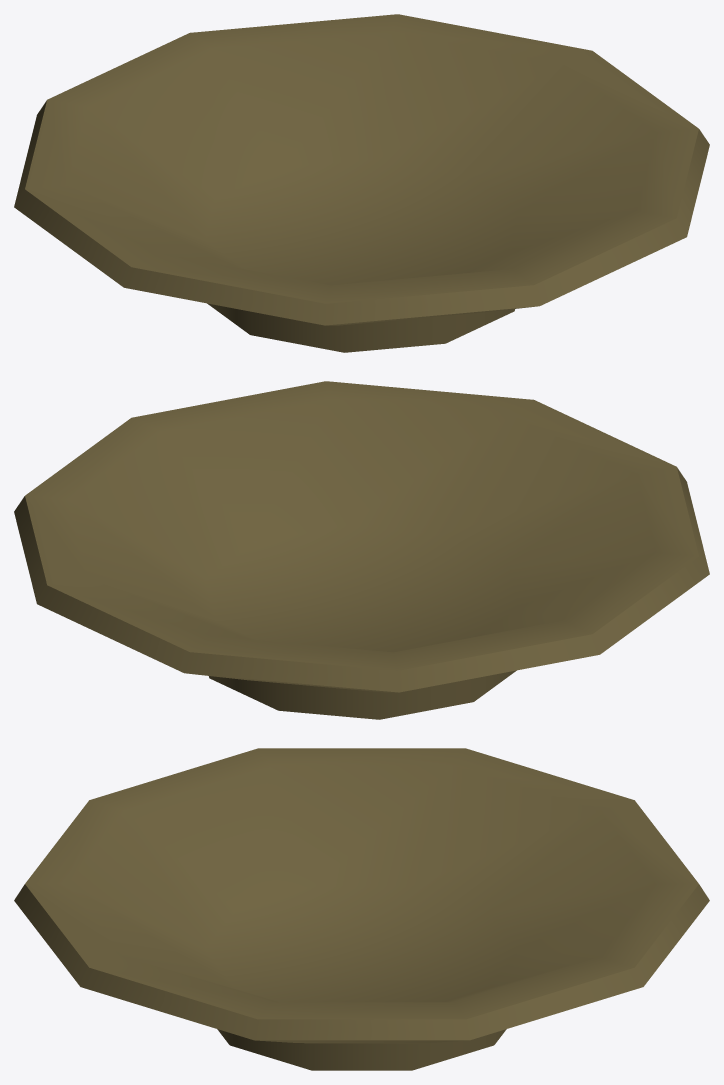
Rendered from Bowl002.fbx.
3 views of the same model, one above another, from view 1: azimuth 30°, elevation 25°; view 2: azimuth 150°, elevation 25°; view 3: azimuth 270°, elevation 25° (orthographic). The views are drawn at different scales.
Visible parts, largest first — view 1: bowl.002; view 2: bowl.002; view 3: bowl.002.
Boxes of the visible parts, box(x1,y1,x2,y2) form: bowl.002: box(14, 14, 709, 352); bowl.002: box(14, 381, 709, 719); bowl.002: box(14, 748, 709, 1070).
Bounding box in the file's own units: 0.7879 × 0.1588 × 0.8284.
